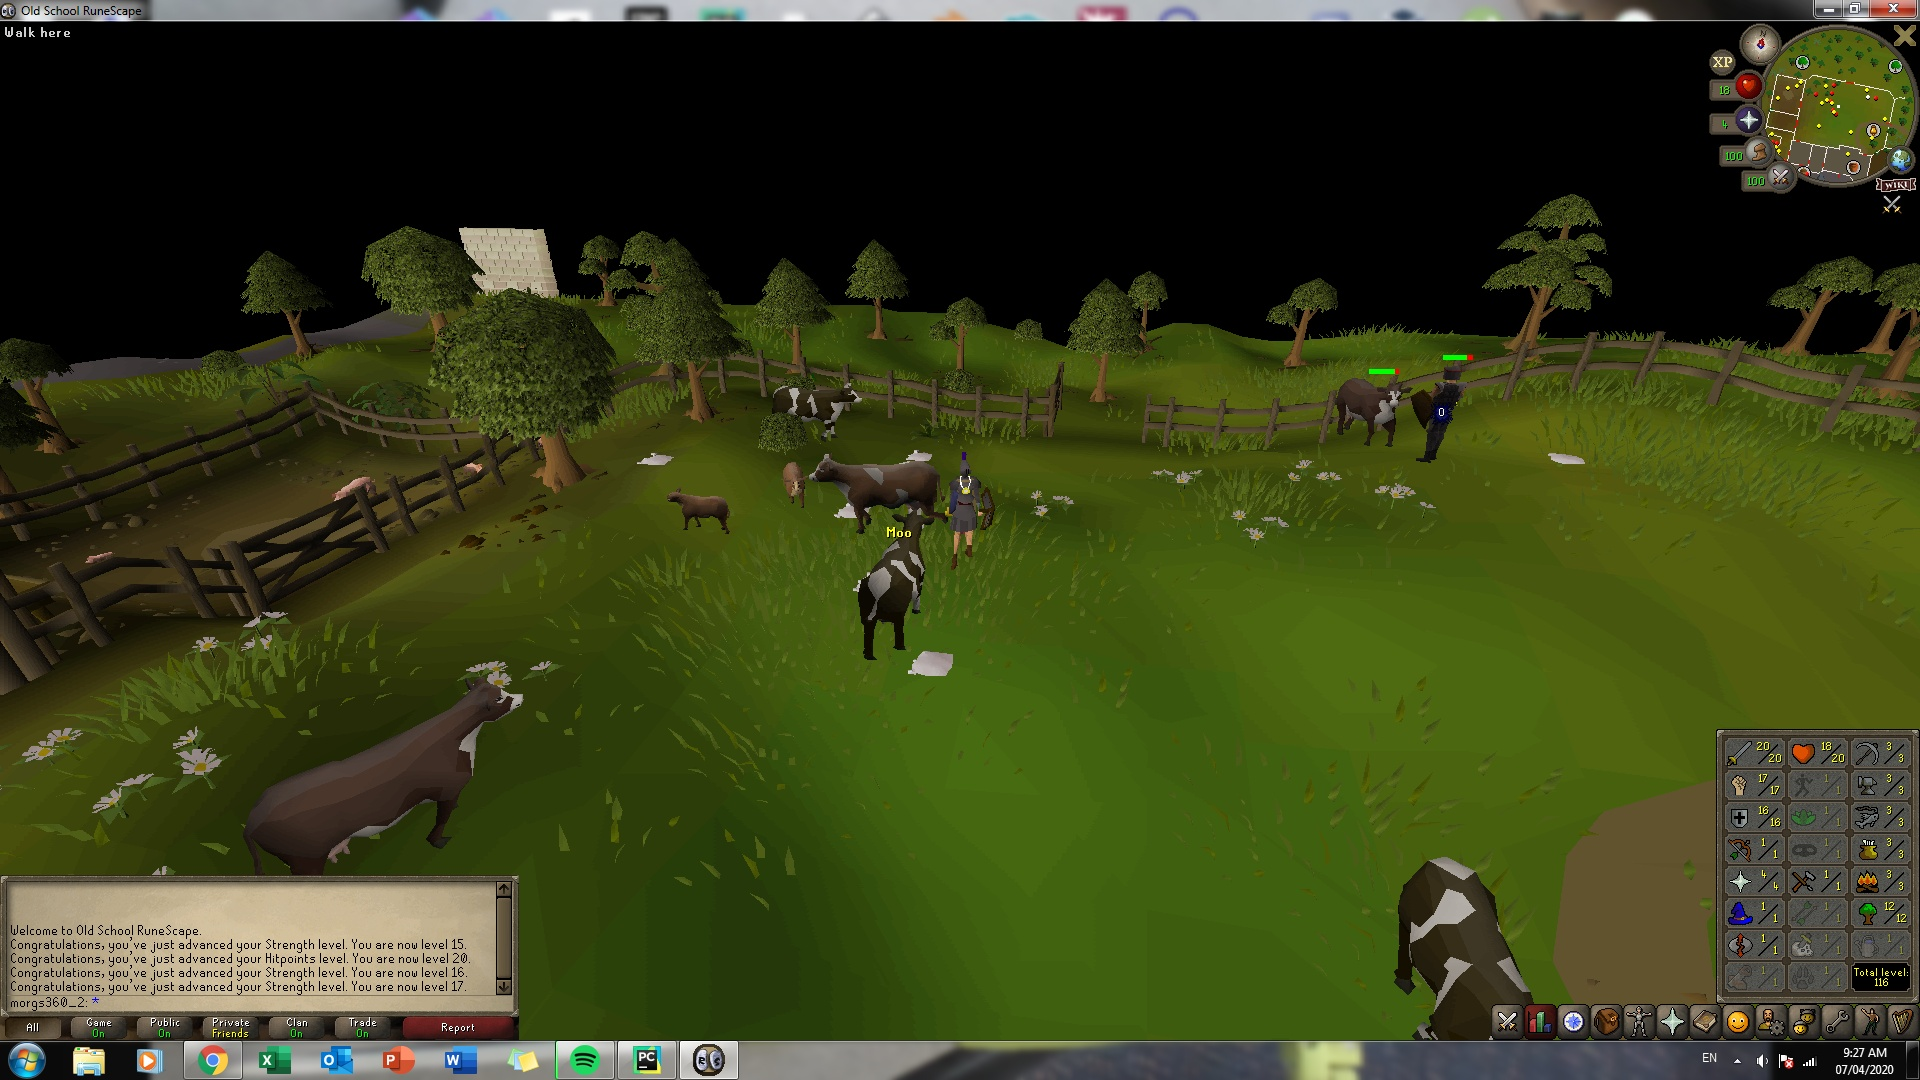cow: (244, 674, 519, 870), (1390, 842, 1544, 1001), (858, 502, 936, 663), (809, 450, 948, 532), (1331, 371, 1412, 453), (765, 378, 865, 446), (659, 490, 736, 536), (775, 451, 812, 509)
player: (943, 449, 983, 568)
